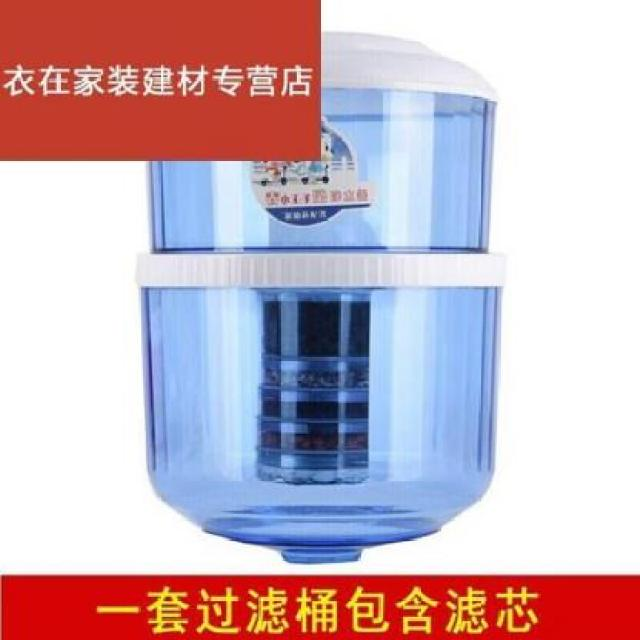coolerbottle: (131, 28, 508, 562)
